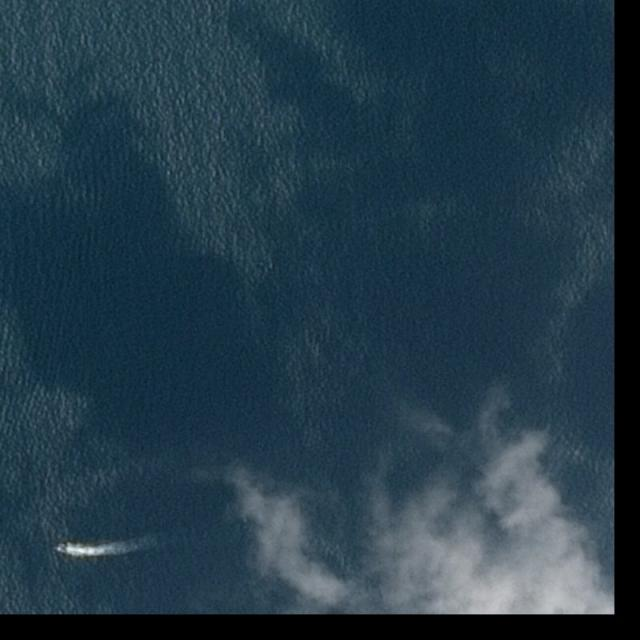ship: (57, 548, 70, 553)
